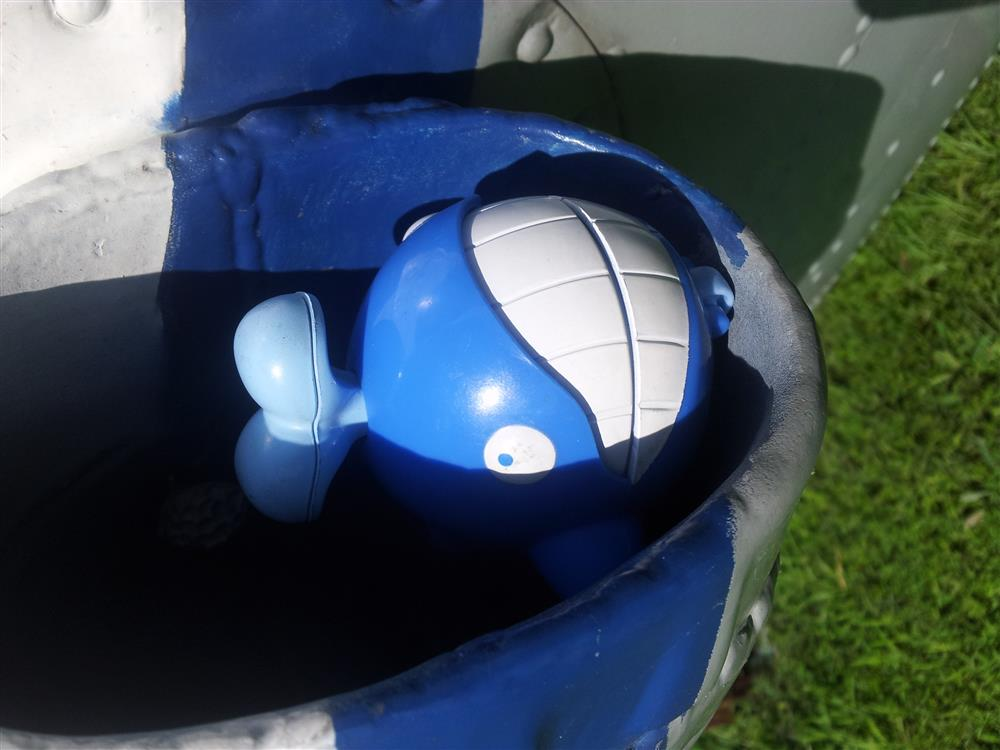toy_whale: (231, 189, 716, 540)
